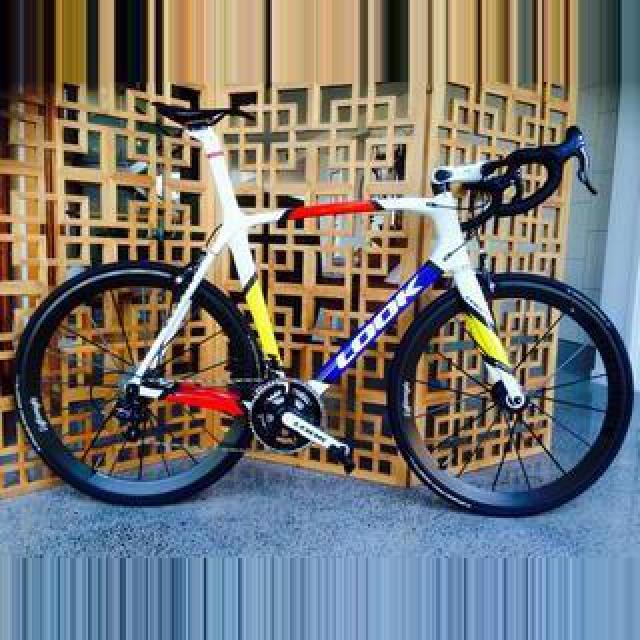Person: (18, 101, 618, 513)
